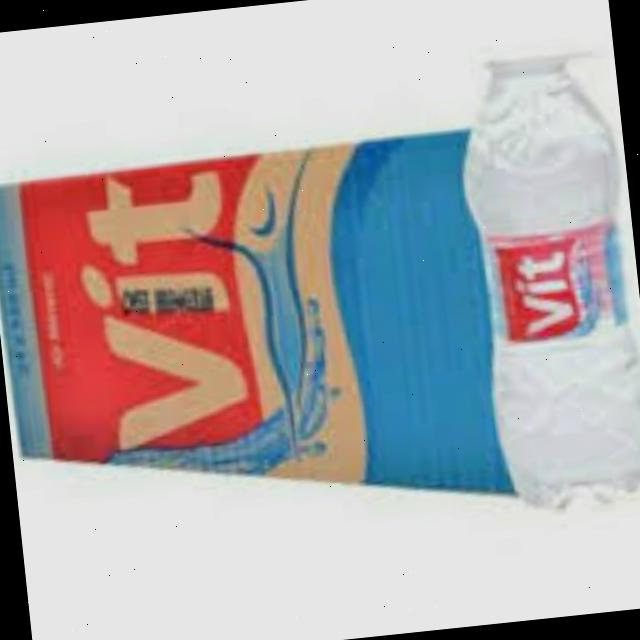trash: (430, 0, 640, 532)
